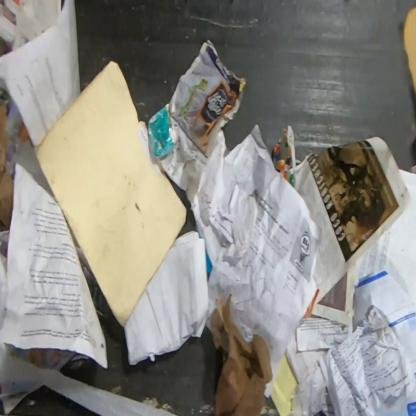cardboard: (400, 6, 415, 103)
